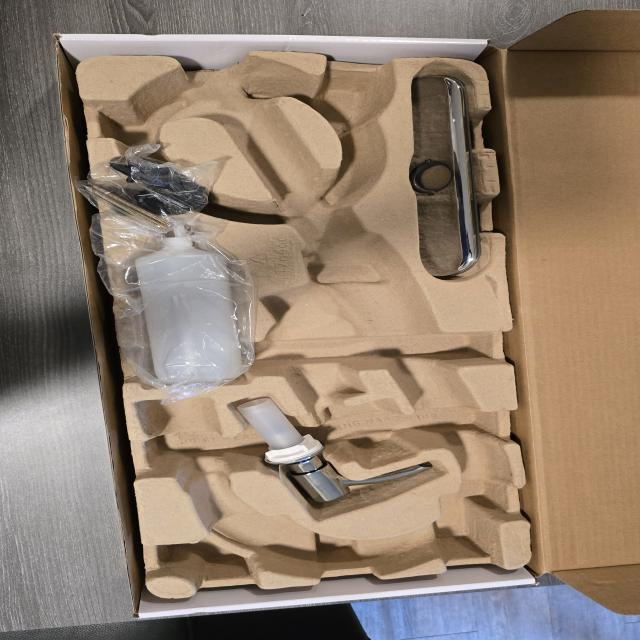1m: (137, 54, 506, 577)
2: (236, 398, 431, 504)
3o: (133, 215, 242, 384)
4: (412, 75, 481, 278)
5m: (311, 74, 388, 128)
6m: (95, 80, 192, 151)
7: (73, 144, 225, 236)
